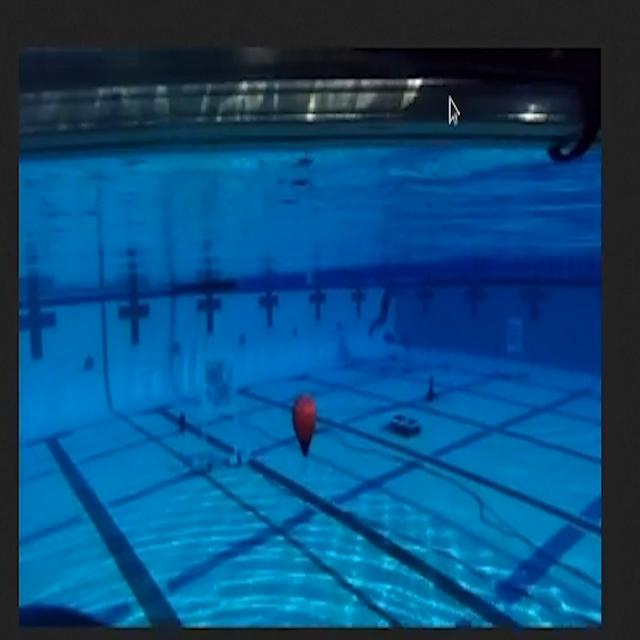Buoy: (280, 382, 331, 478)
